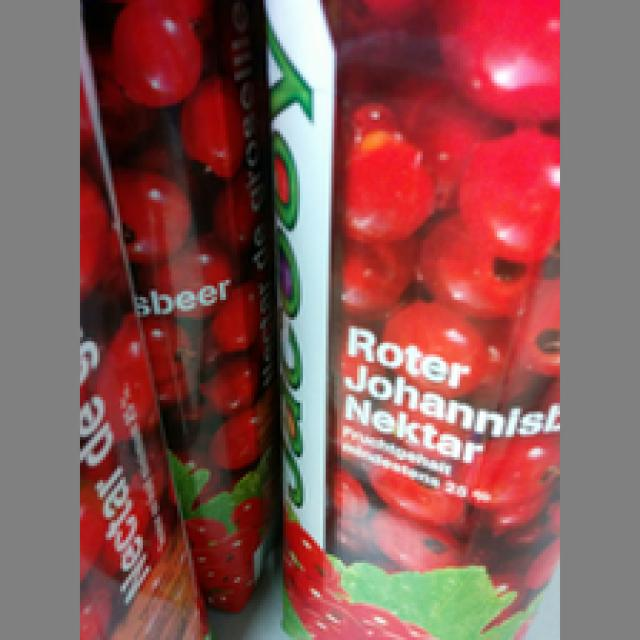groceries: (260, 3, 551, 637)
